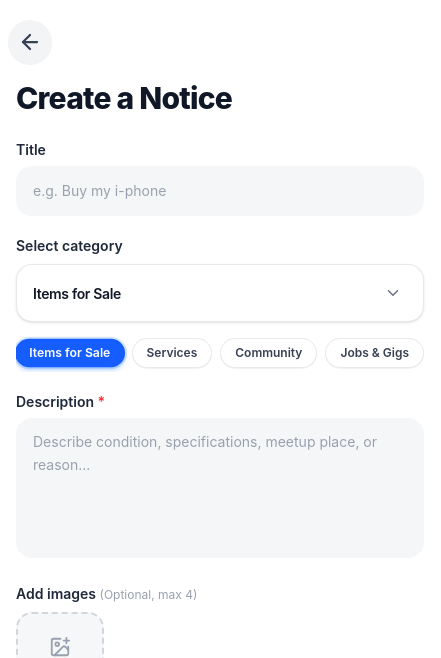
Test: CreateNotice Component Tests › validates description minimum length
Type "Valid Title Here" into the field with placeholder "e.g. Buy my i-phone" at [220, 191], box [16,166,424,216]
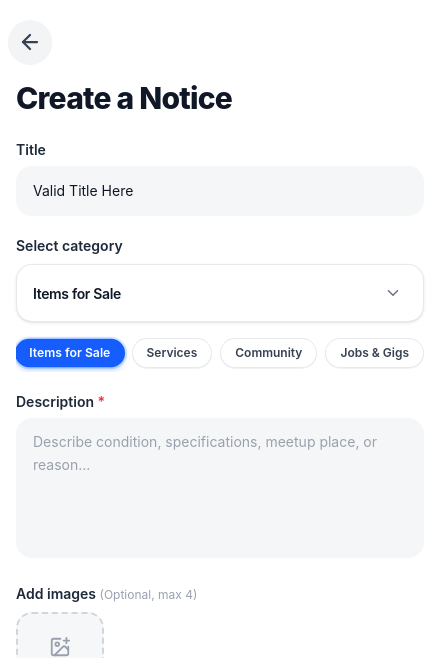
Replace the text in the text box with placeholder "Describe condition, specifications" with "Short" at [220, 488], box [16,418,424,558]
(page scrolled)
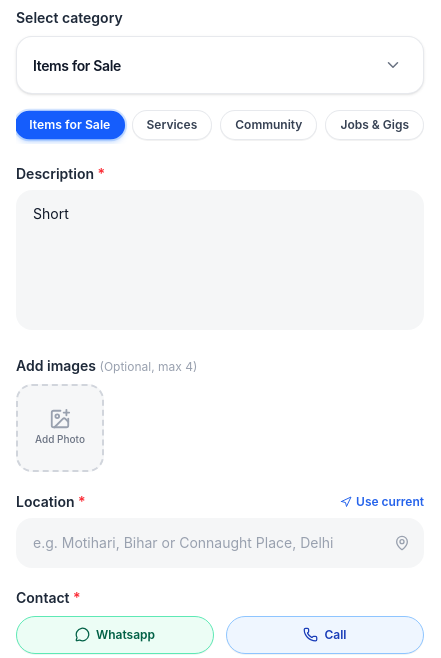
Submit the form
(page scrolled)
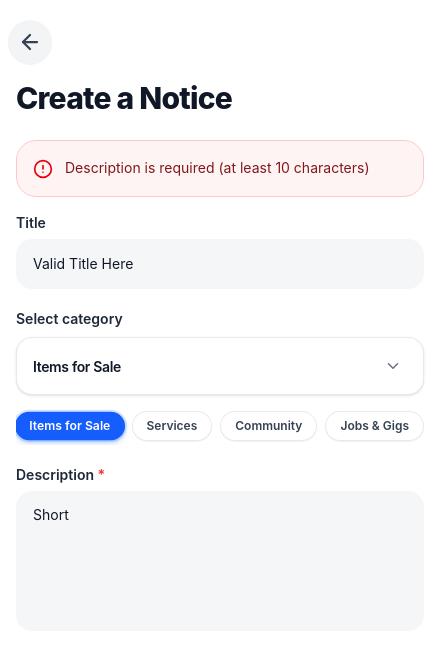
Expected: the text "Description is required (at least 10 characters)" is shown, [65,157,407,180]
